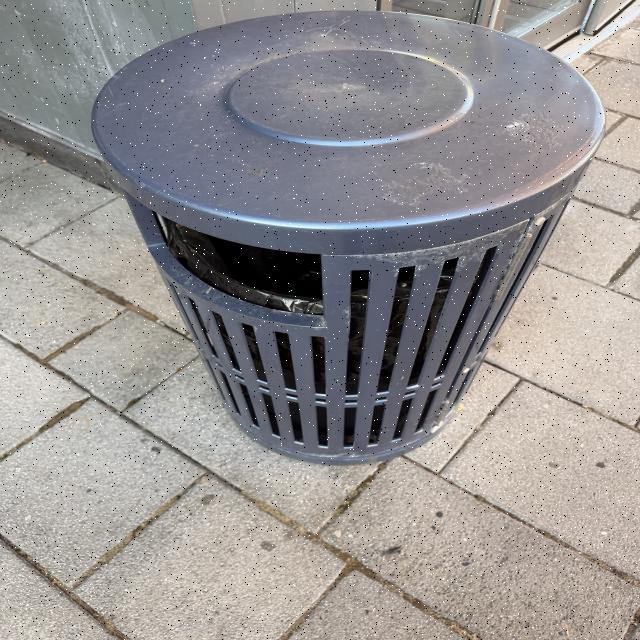Dustbin: (92, 9, 607, 468)
